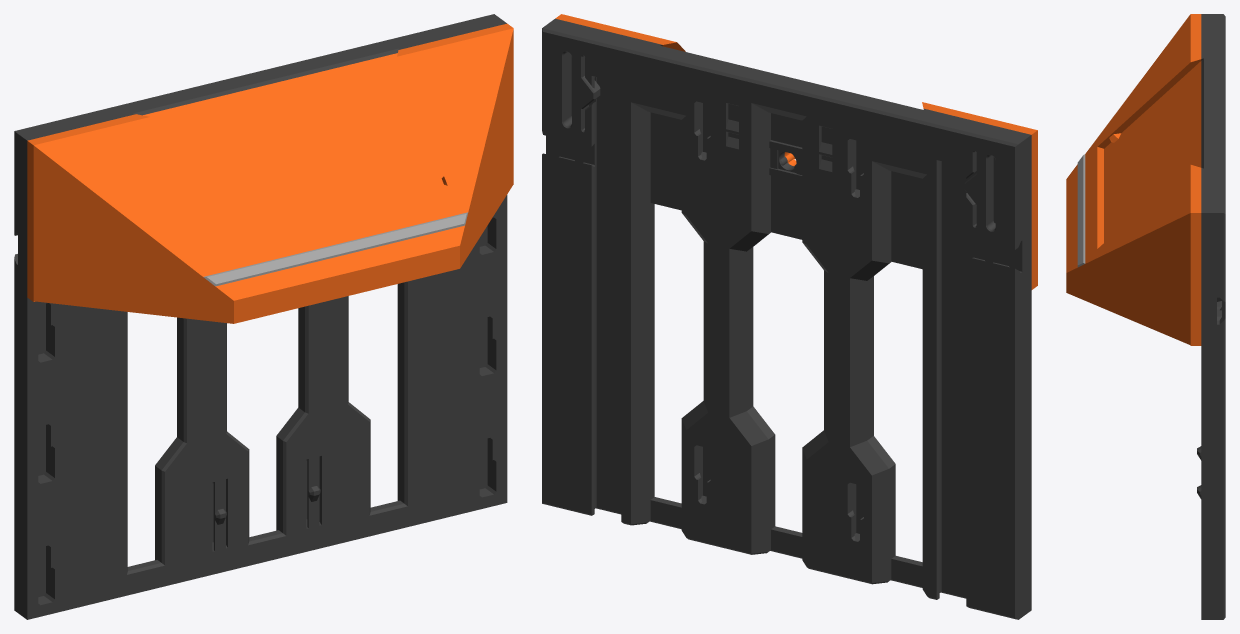
The model's file is Faceplate_ClassicPro_1W-15H.lib.glb.
The picture shows the model from 3 angles, left to right: view 1: azimuth 30°, elevation 25°; view 2: azimuth 150°, elevation 25°; view 3: azimuth 270°, elevation 25°; orthographic projection. The views are drawn at different scales.
Visible parts, largest first — view 1: Faceplate_ClassicPro_1W-15H; view 2: Faceplate_ClassicPro_1W-15H; view 3: Faceplate_ClassicPro_1W-15H.
Boxes of the visible parts, x1,y1,x2,y2 form: Faceplate_ClassicPro_1W-15H: [14, 14, 513, 619]; Faceplate_ClassicPro_1W-15H: [542, 14, 1037, 619]; Faceplate_ClassicPro_1W-15H: [1066, 14, 1225, 619].
Bounding box in the file's own units: 87 × 83 × 29.5.
